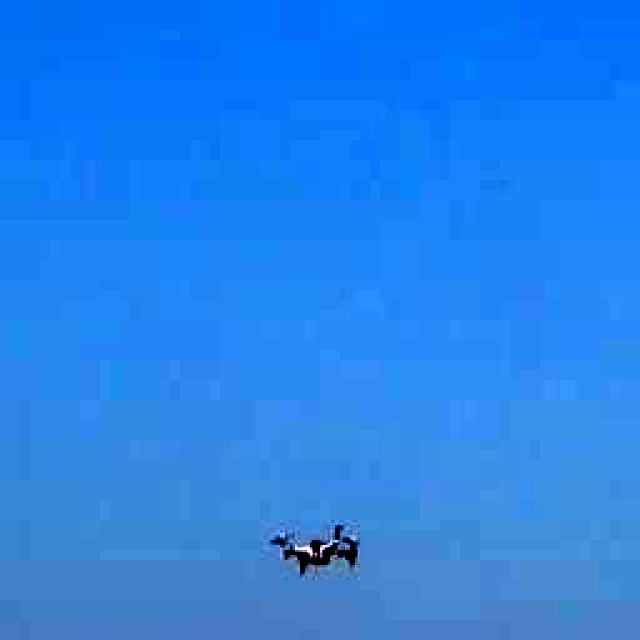bird: (264, 506, 371, 576)
